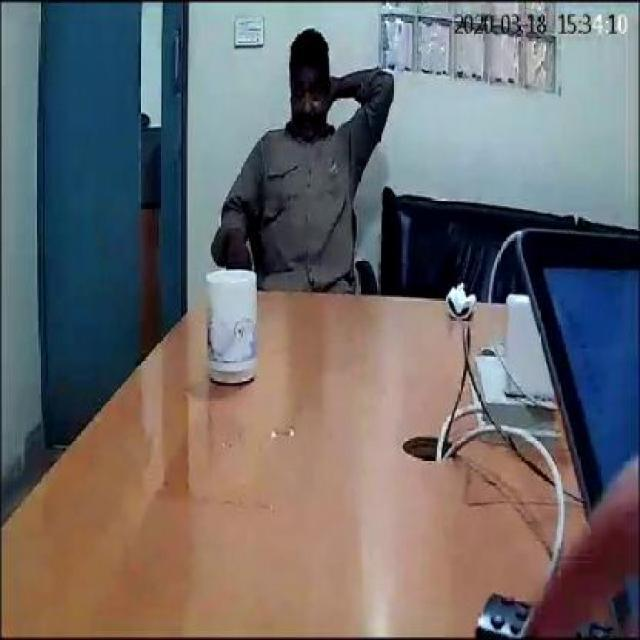spill: (154, 392, 300, 499)
